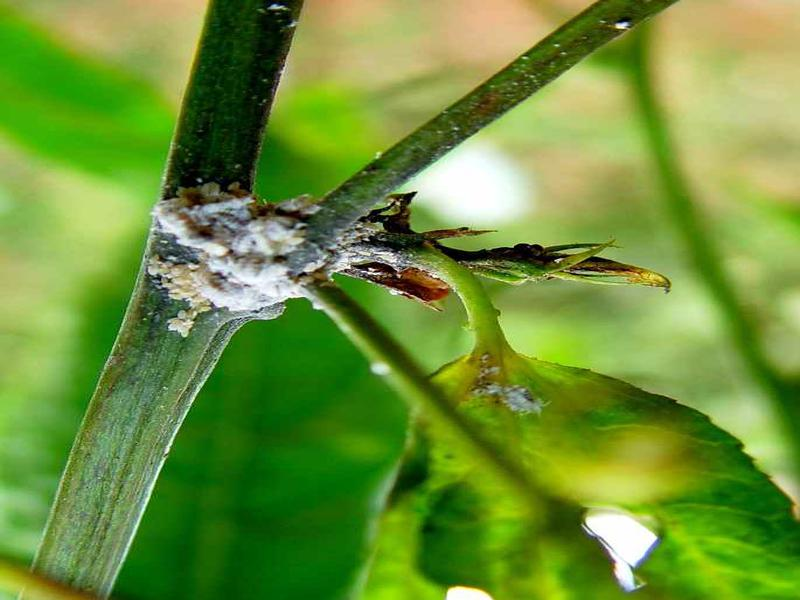Mealy_bug: (136, 169, 531, 370)
